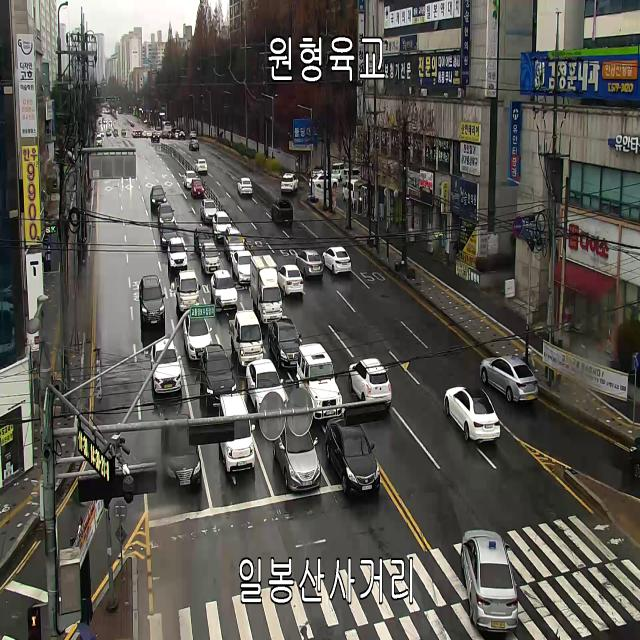Bus: (162, 121, 171, 132)
Car: (461, 529, 518, 633), (325, 416, 380, 496), (272, 417, 322, 493), (296, 342, 342, 420), (444, 386, 501, 442), (218, 394, 256, 474), (163, 414, 202, 489), (480, 354, 538, 402), (200, 344, 237, 407), (245, 359, 287, 414), (348, 358, 392, 410), (268, 317, 302, 369), (150, 338, 182, 393), (183, 314, 213, 361), (139, 276, 165, 324), (210, 270, 238, 311), (295, 250, 324, 280), (322, 246, 351, 274), (278, 264, 303, 296), (223, 227, 245, 261), (232, 250, 252, 284), (168, 238, 188, 271), (212, 211, 232, 242), (271, 199, 293, 226), (201, 243, 220, 274), (342, 179, 362, 206), (194, 227, 214, 254), (160, 222, 178, 249), (157, 203, 175, 230), (309, 173, 339, 188), (200, 199, 217, 222), (281, 173, 299, 194), (150, 185, 167, 207), (342, 169, 362, 186), (191, 178, 204, 199), (237, 178, 253, 195), (332, 162, 344, 182), (184, 171, 197, 188), (313, 167, 328, 179), (195, 159, 208, 172), (189, 140, 199, 151), (96, 134, 102, 147), (151, 134, 159, 142), (178, 131, 185, 140), (162, 131, 169, 139), (190, 131, 197, 138), (121, 129, 126, 136), (100, 130, 104, 138), (147, 131, 152, 137), (114, 129, 118, 136), (106, 130, 110, 136), (108, 129, 112, 135)
Truck: (250, 254, 283, 324), (228, 309, 264, 366), (174, 269, 200, 312)
